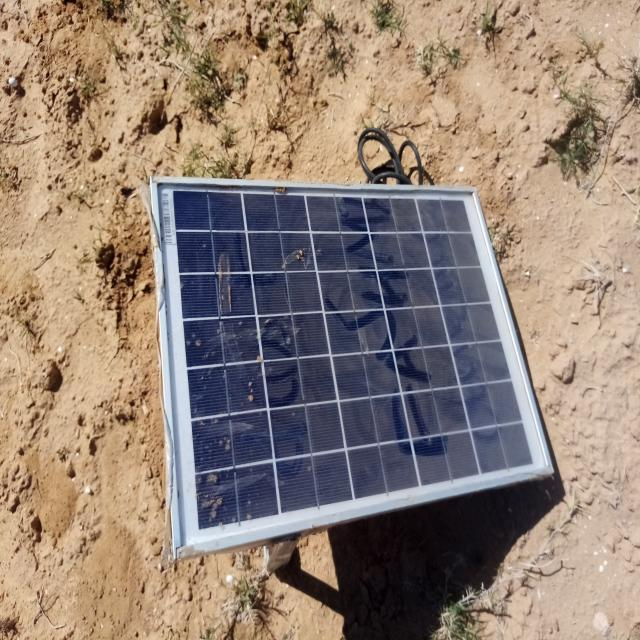faulty: (158, 183, 555, 548)
